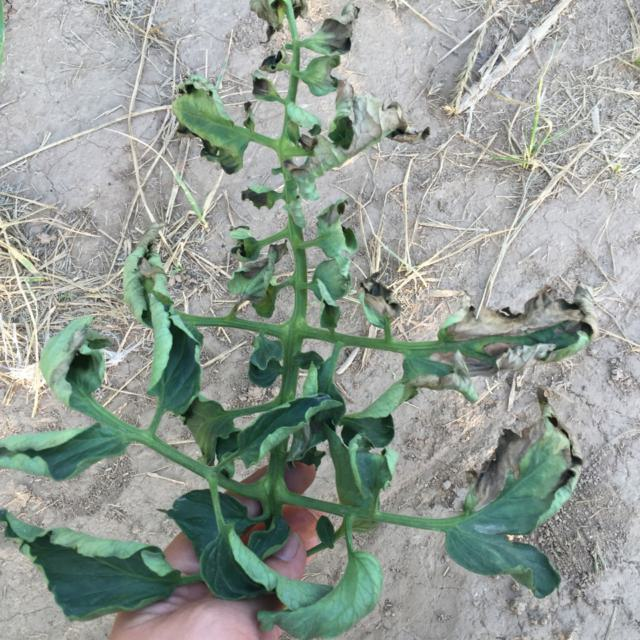Late_blight: (406, 281, 600, 400), (272, 85, 432, 189), (454, 412, 580, 514), (169, 73, 256, 176), (115, 220, 172, 313), (45, 321, 118, 388), (227, 239, 289, 292), (356, 273, 405, 332), (312, 1, 362, 56), (245, 1, 308, 42), (251, 47, 288, 73), (317, 197, 347, 229), (238, 184, 270, 212), (245, 73, 273, 101)
